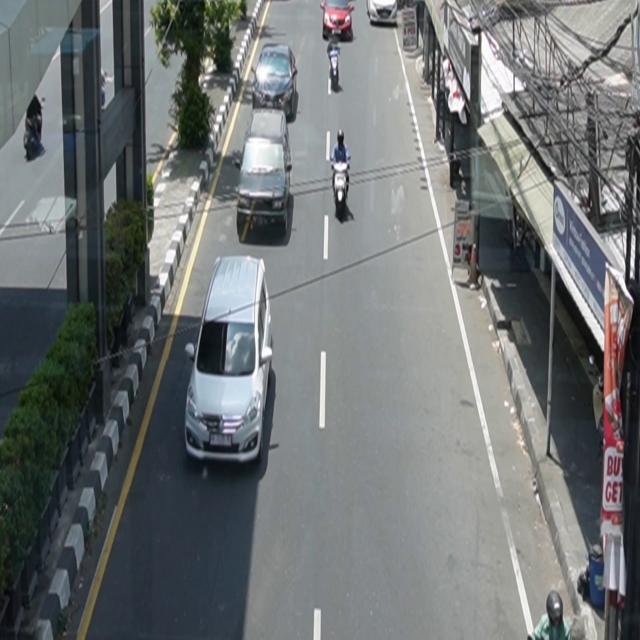car: (185, 255, 274, 465), (235, 109, 293, 235), (252, 44, 299, 121), (321, 1, 356, 41), (366, 1, 398, 26)
